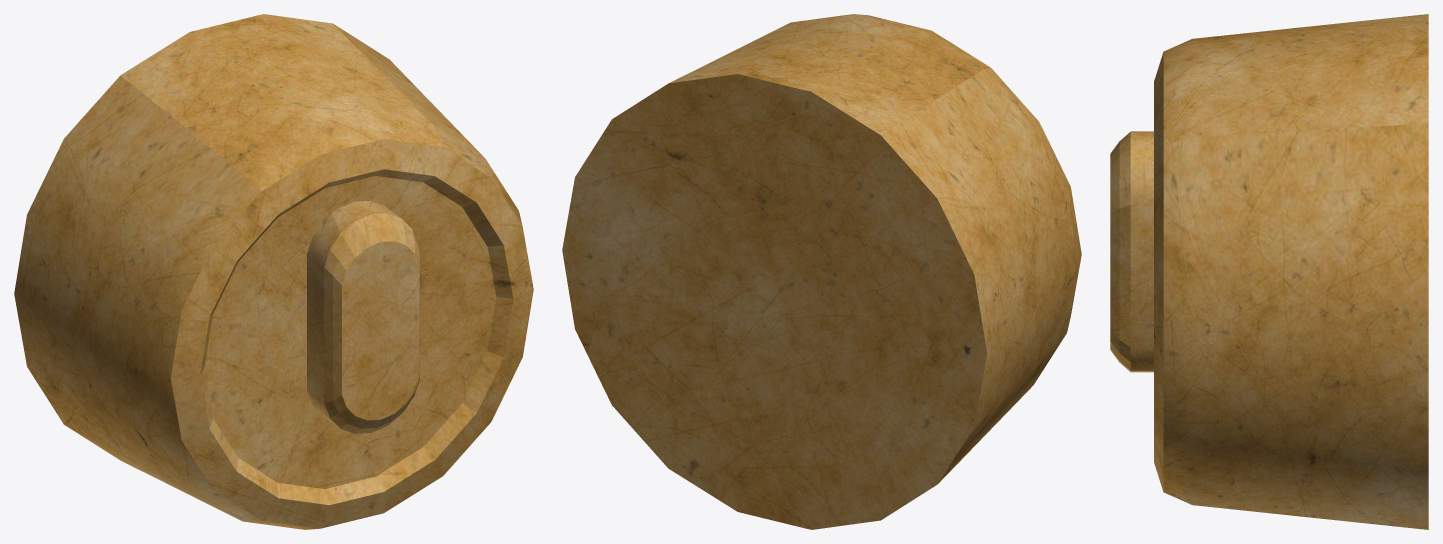
The model's file is knob-1.glb.
3 views of the same model, side by side, from view 1: azimuth 30°, elevation 25°; view 2: azimuth 150°, elevation 25°; view 3: azimuth 270°, elevation 25° (orthographic). The views are drawn at different scales.
Visible parts, largest first — view 1: world; view 2: world; view 3: world.
Part boxes in pixels (<box>): world: <box>14,14,533,529</box>; world: <box>562,14,1081,529</box>; world: <box>1110,14,1428,529</box>.
Size of the model in its own units: 0.0628 by 0.0619 by 0.0386.
1 material, 1 textured.
